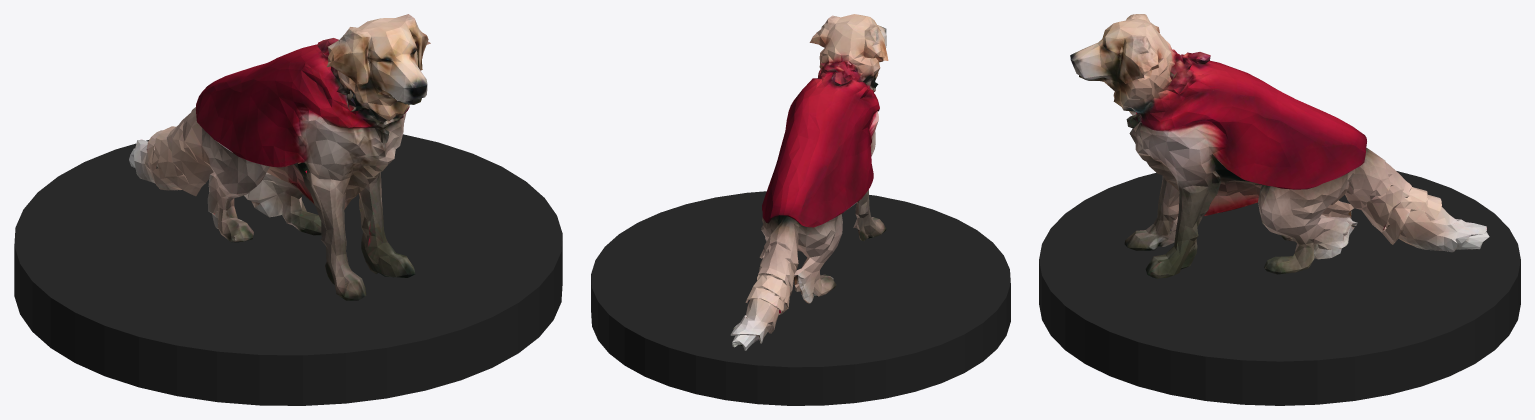
File: sparky.glb
3 views of the same model, side by side, from view 1: azimuth 30°, elevation 25°; view 2: azimuth 150°, elevation 25°; view 3: azimuth 270°, elevation 25° (orthographic). The views are drawn at different scales.
Parts seen in each view (by area): view 1: base, figure; view 2: base, figure; view 3: base, figure.
Boxes of the visible parts, bbox=[...] form: base: bbox=[14, 134, 562, 405]; figure: bbox=[129, 14, 430, 300]; base: bbox=[591, 191, 1010, 405]; figure: bbox=[730, 14, 888, 350]; base: bbox=[1039, 171, 1520, 405]; figure: bbox=[1070, 14, 1489, 278].
Size of the model in its own units: 1.18 by 0.77 by 1.18.
2 materials, 1 textured.
